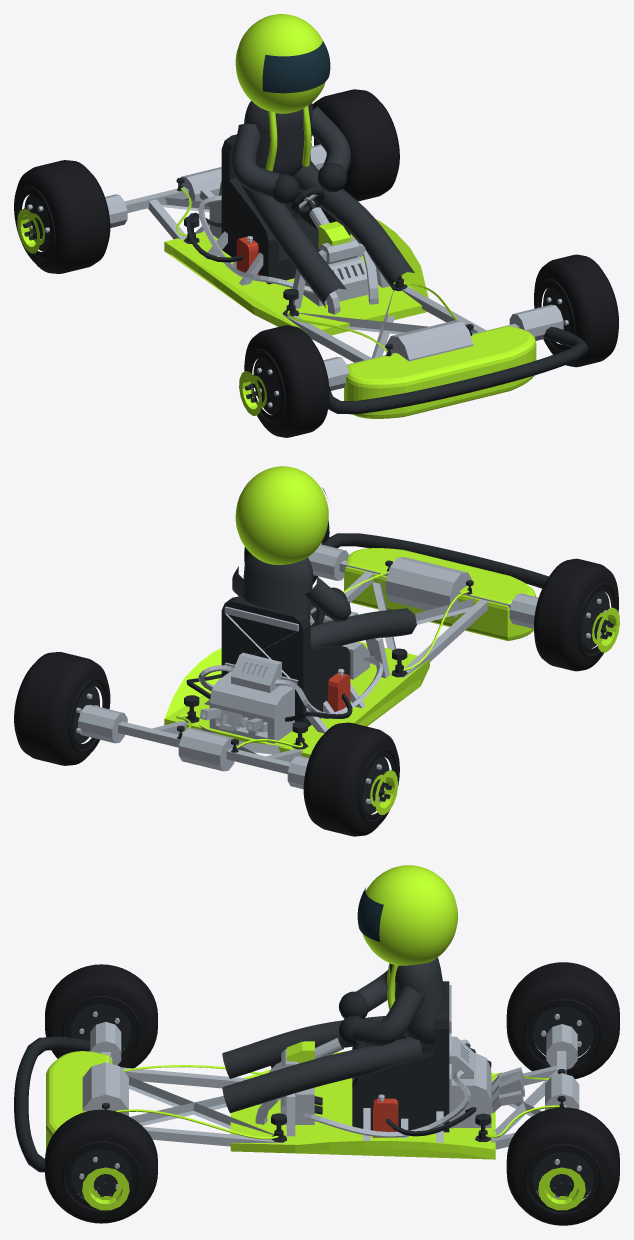
The model's file is apex.glb.
3 renders of one model, top to bottom at view 1: azimuth 30°, elevation 25°; view 2: azimuth 150°, elevation 25°; view 3: azimuth 270°, elevation 25°, orthographic. The views are drawn at different scales.
Parts seen in each view (by area): view 1: body_paint, body_metal, body_suit, body_graphite, wheel_rr_rubber, wheel_fr_rubber, wheel_rl_rubber, wheel_fl_rubber, body_visor, wheel_fr_graphite, wheel_rr_graphite, wheel_fr_paint (+2 smaller); view 2: body_metal, body_paint, body_graphite, wheel_rl_rubber, body_suit, wheel_rr_rubber, wheel_fr_rubber, wheel_fr_graphite, wheel_rr_graphite, wheel_fr_paint, wheel_rr_paint, body_accent (+2 smaller); view 3: body_paint, body_metal, body_suit, body_graphite, wheel_rl_rubber, wheel_rr_rubber, wheel_fl_rubber, wheel_fr_rubber, wheel_fl_graphite, wheel_rl_graphite, wheel_rr_graphite, wheel_fr_graphite (+4 smaller).
Part boxes in pixels (left/top/right/bottom): body_paint: left=164, top=14, right=536, bottom=418; body_metal: left=105, top=144, right=563, bottom=390; body_suit: left=232, top=101, right=414, bottom=307; body_graphite: left=176, top=134, right=588, bottom=414; wheel_rr_rubber: left=14, top=160, right=110, bottom=273; wheel_fr_rubber: left=244, top=325, right=329, bottom=437; wheel_rl_rubber: left=311, top=89, right=399, bottom=201; wheel_fl_rubber: left=534, top=254, right=618, bottom=367; body_visor: left=262, top=41, right=330, bottom=93; wheel_fr_graphite: left=245, top=357, right=281, bottom=415; wheel_rr_graphite: left=23, top=194, right=51, bottom=251; wheel_fr_paint: left=239, top=371, right=266, bottom=415; body_metal: left=78, top=545, right=538, bottom=789; body_paint: left=164, top=466, right=535, bottom=757; body_graphite: left=177, top=533, right=548, bottom=752; wheel_rl_rubber: left=14, top=652, right=110, bottom=765; body_suit: left=232, top=552, right=416, bottom=647; wheel_rr_rubber: left=303, top=722, right=399, bottom=836; wheel_fr_rubber: left=534, top=558, right=618, bottom=671; wheel_fr_graphite: left=581, top=591, right=613, bottom=648; wheel_rr_graphite: left=362, top=757, right=391, bottom=814; wheel_fr_paint: left=592, top=607, right=619, bottom=652; wheel_rr_paint: left=370, top=770, right=397, bottom=814; body_accent: left=328, top=672, right=350, bottom=711; body_paint: left=46, top=865, right=559, bottom=1159; body_metal: left=82, top=985, right=579, bottom=1149; body_suit: left=222, top=957, right=445, bottom=1113; body_graphite: left=14, top=981, right=565, bottom=1172; wheel_rl_rubber: left=506, top=1107, right=619, bottom=1225; wheel_rr_rubber: left=506, top=962, right=619, bottom=1079; wheel_fl_rubber: left=45, top=1109, right=157, bottom=1223; wheel_fr_rubber: left=45, top=964, right=157, bottom=1068; wheel_fl_graphite: left=71, top=1149, right=131, bottom=1199; wheel_rl_graphite: left=533, top=1152, right=593, bottom=1199; wheel_rr_graphite: left=533, top=1006, right=593, bottom=1056; wheel_fr_graphite: left=71, top=1004, right=131, bottom=1051.
Bounding box in the file's own units: 2.11 × 1.51 × 3.
